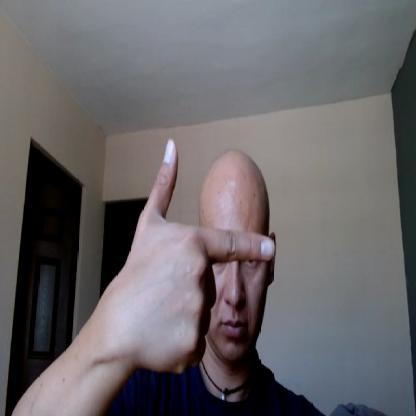G: (129, 135, 275, 373)
